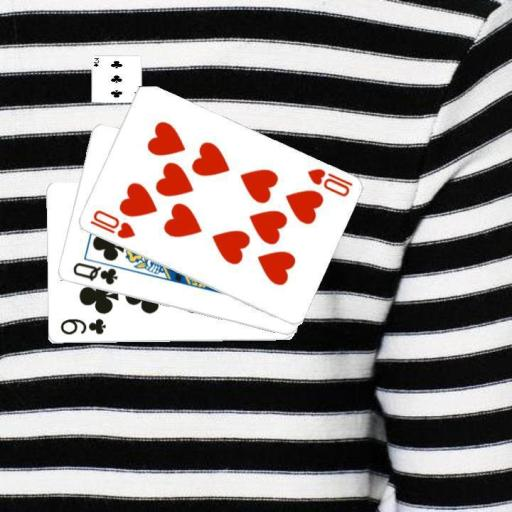card-corner: (304, 165, 354, 199), (86, 207, 137, 240), (69, 260, 119, 286), (57, 316, 107, 337)
